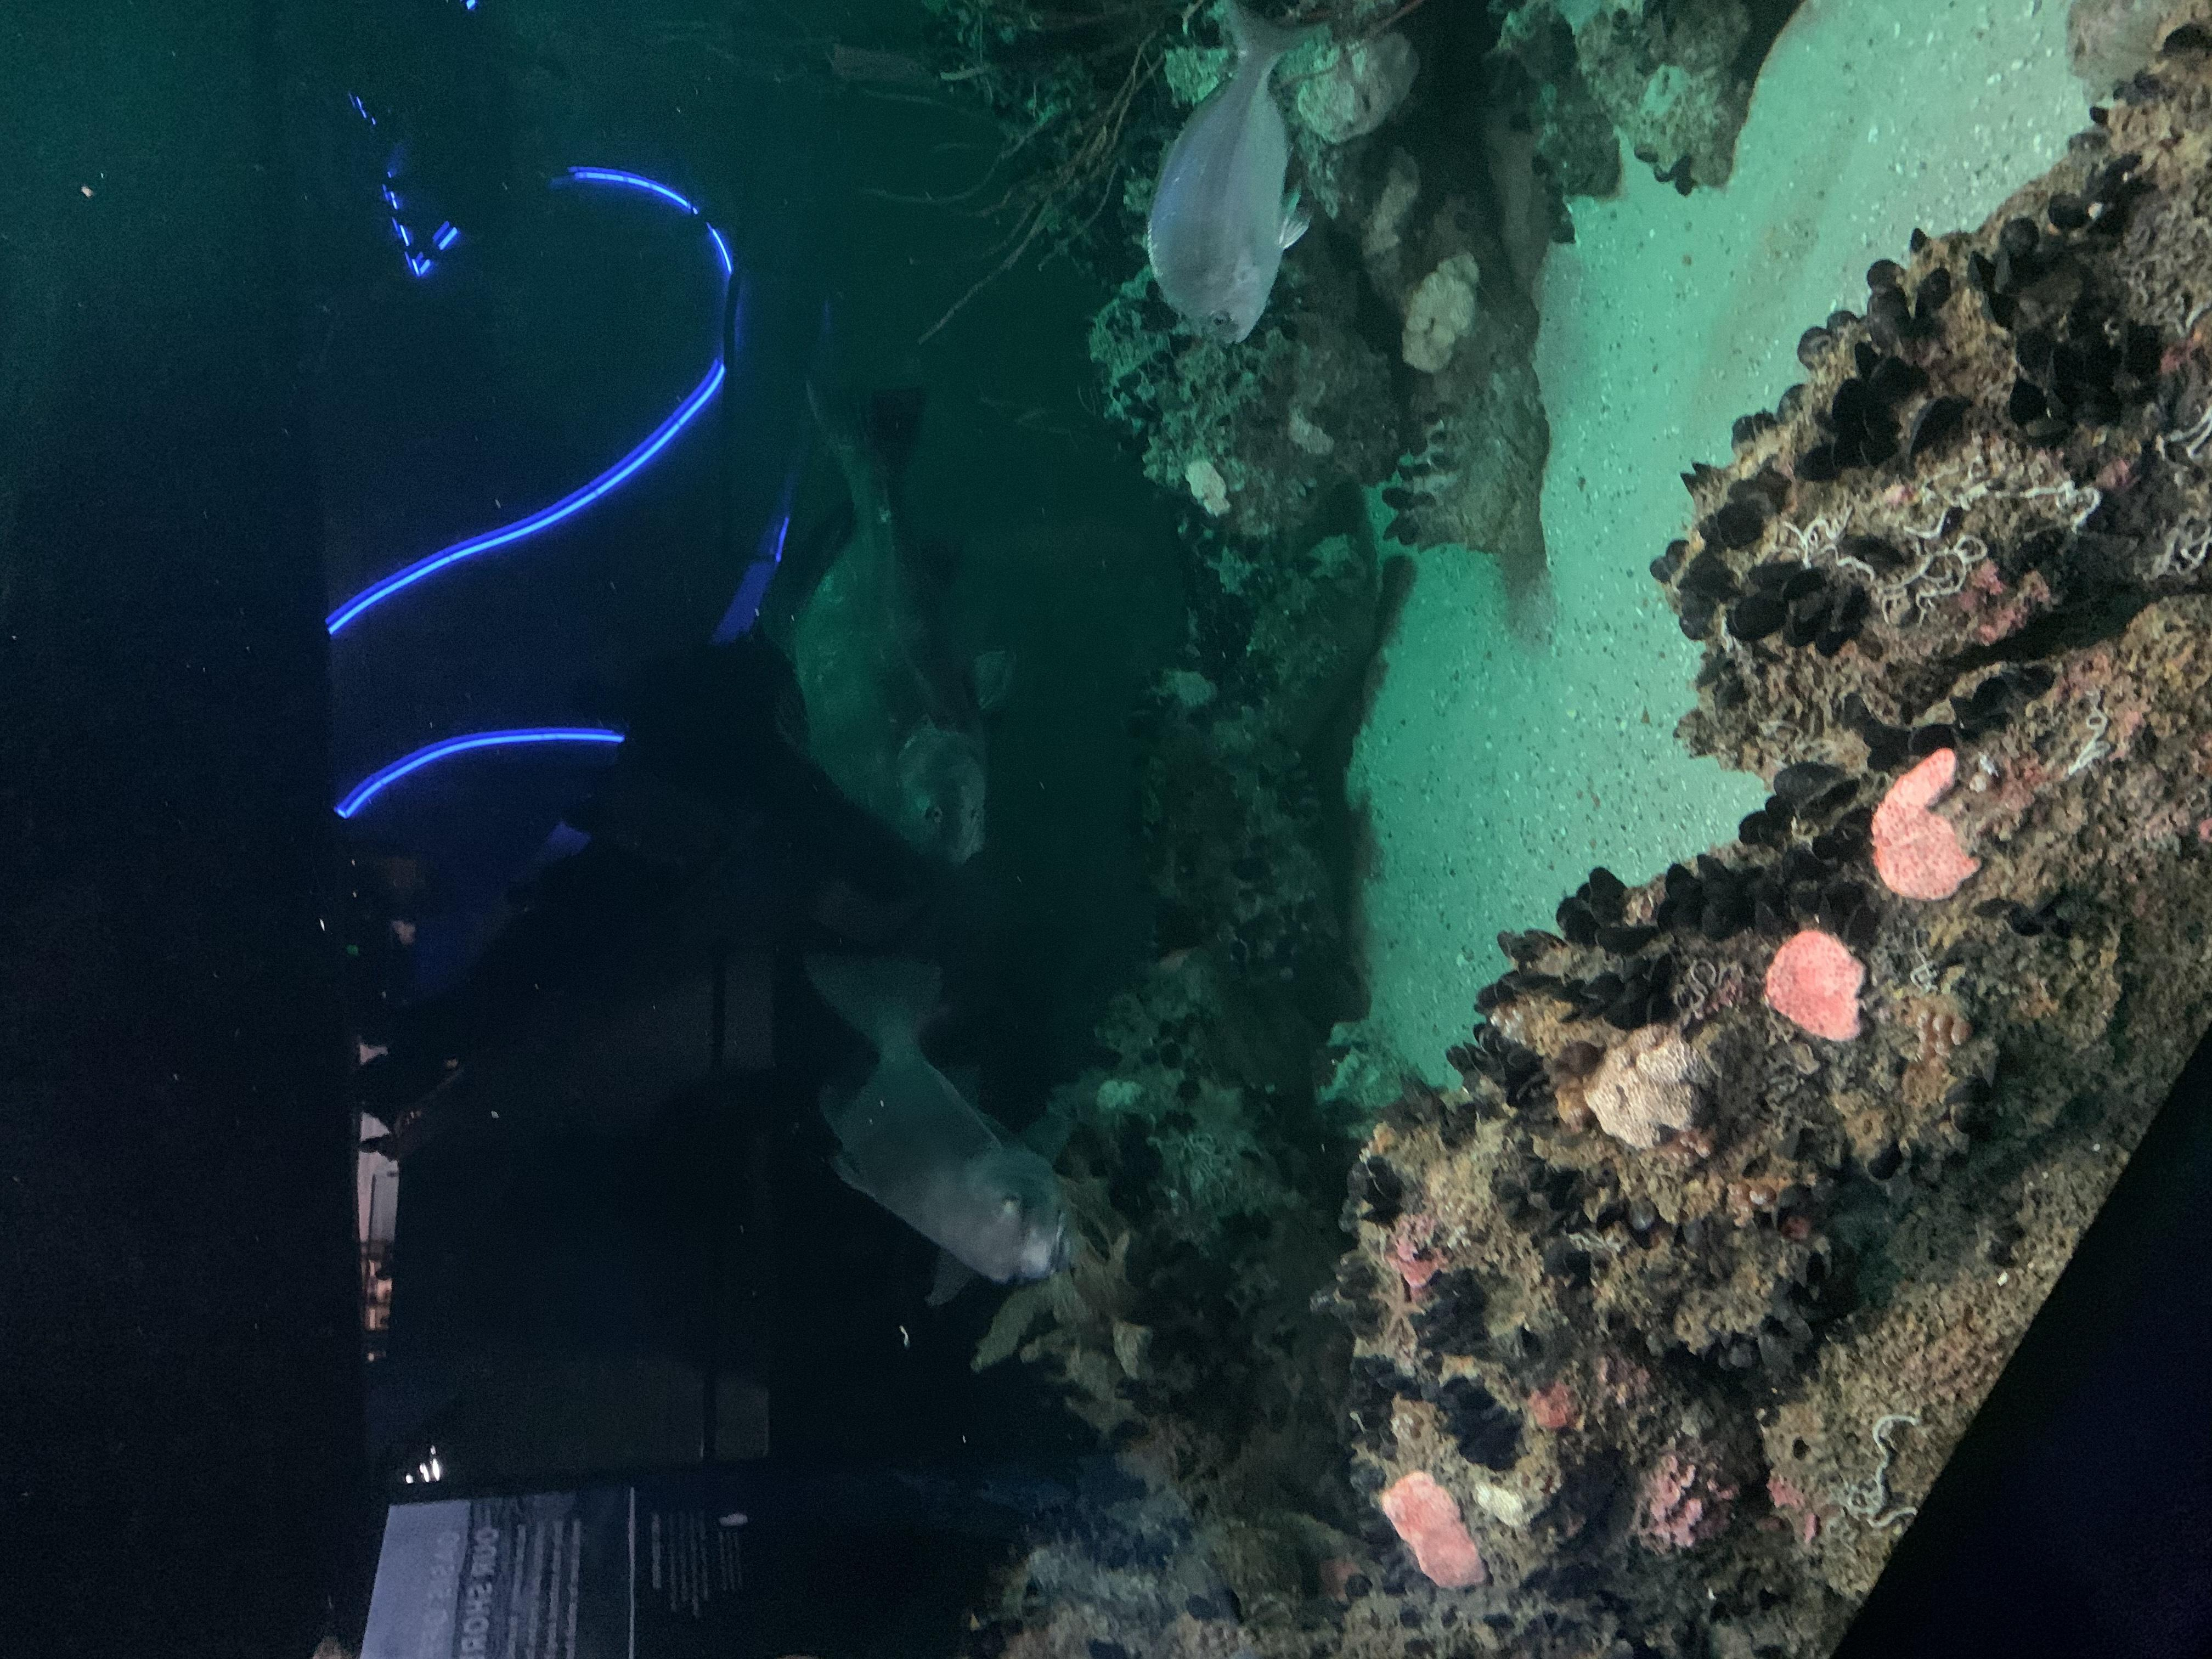fish: (747, 378, 1042, 871), (789, 951, 1089, 1293), (1146, 3, 1320, 345)
